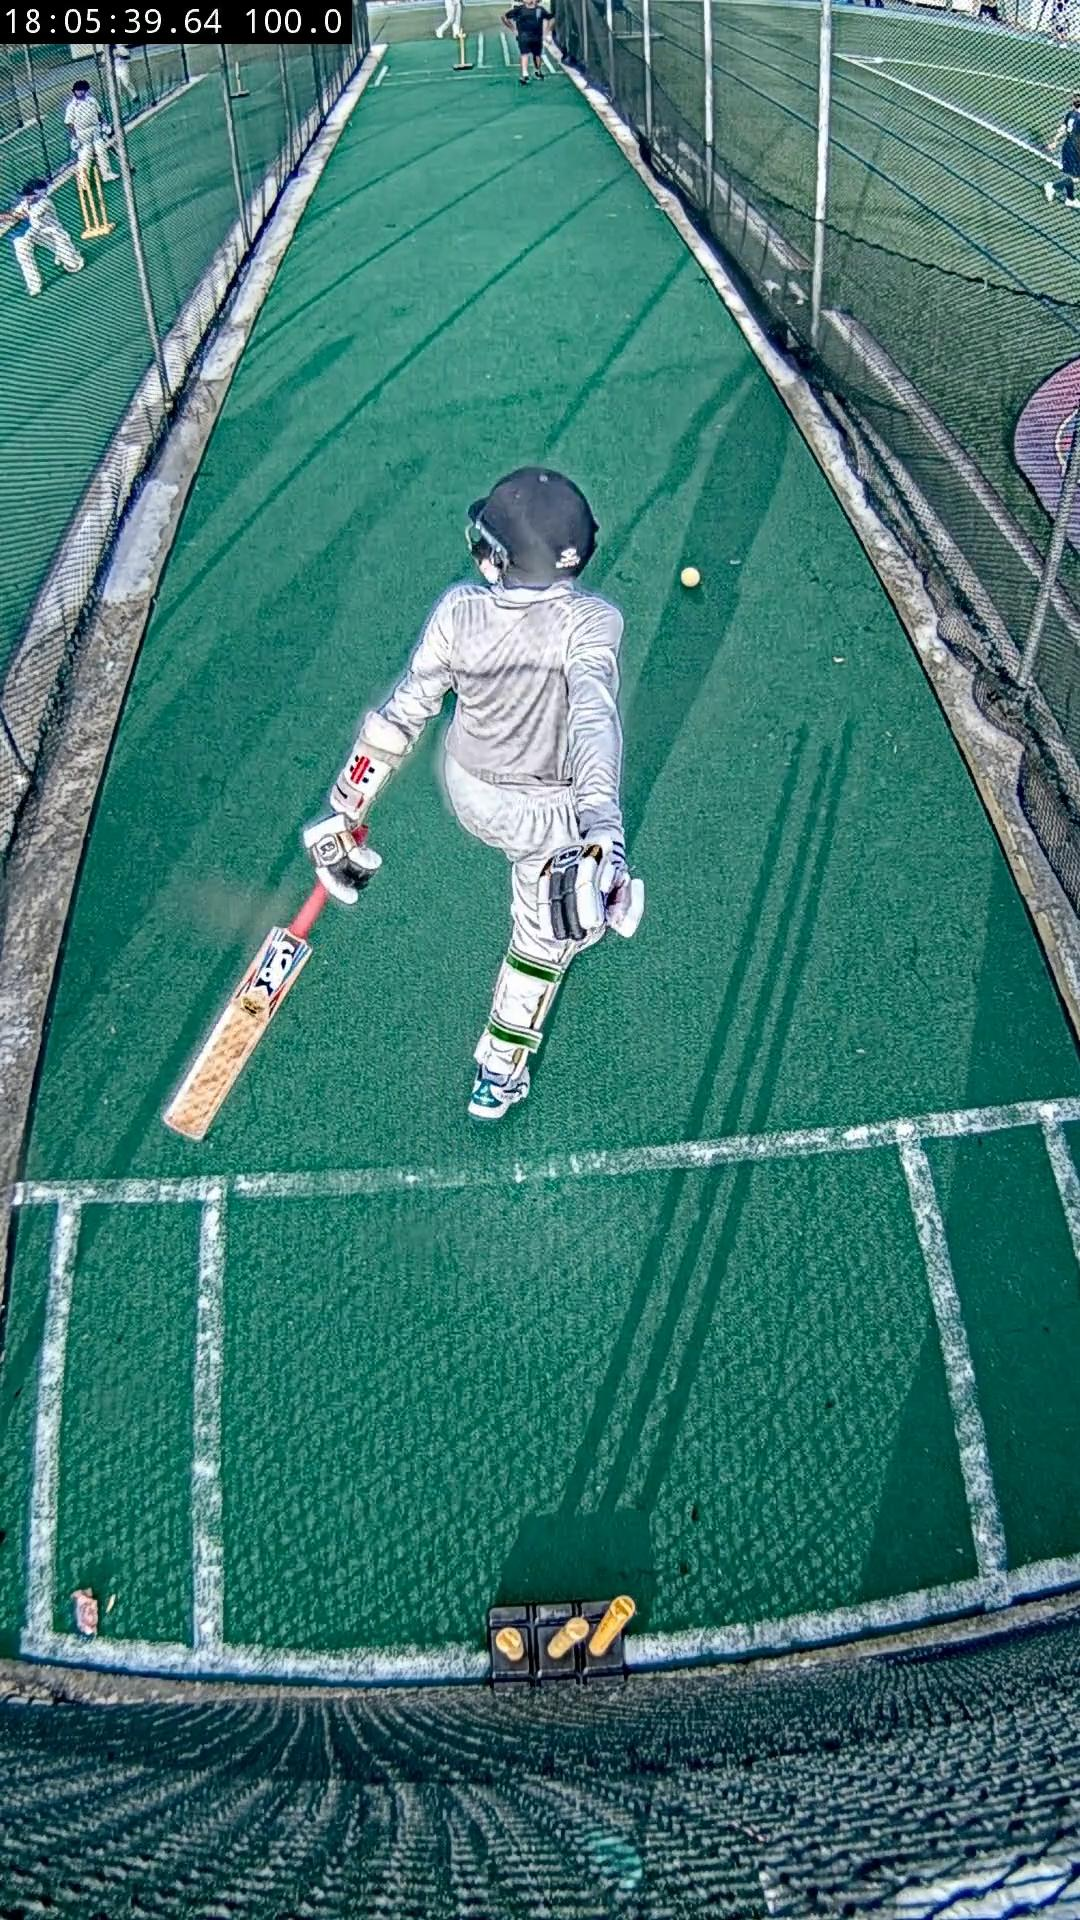ball: (679, 566, 702, 587)
bat: (165, 885, 330, 1139)
gloves: (541, 844, 645, 945), (301, 810, 382, 903)
helmet: (465, 468, 596, 585)
stumps: (488, 1594, 637, 1681)
